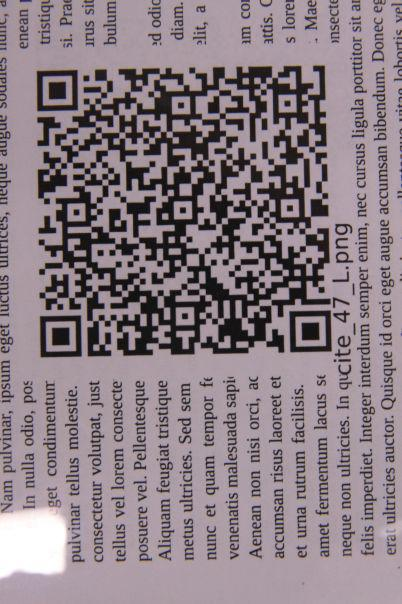Finder pattern: (285, 305, 342, 359), (30, 65, 86, 116), (33, 312, 88, 362)
